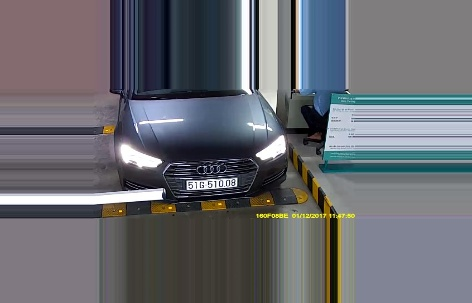plate: (182, 173, 239, 191)
